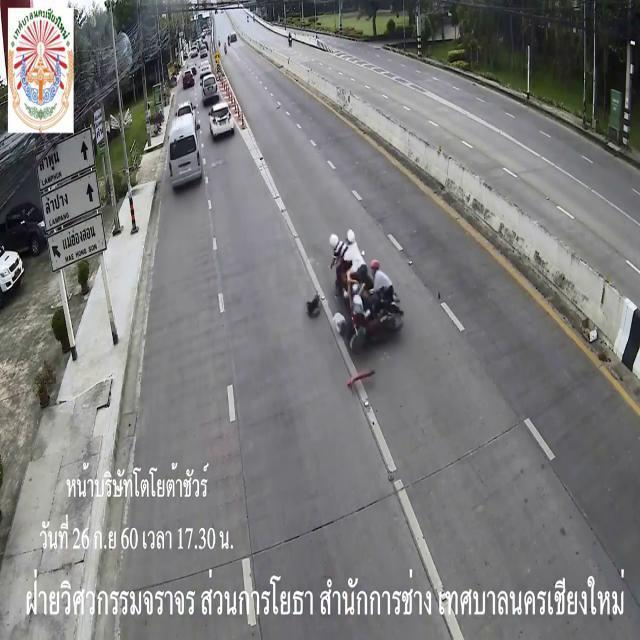accident: (328, 258, 404, 356)
non-accident: (167, 102, 199, 192), (201, 66, 219, 102), (192, 38, 208, 58)
